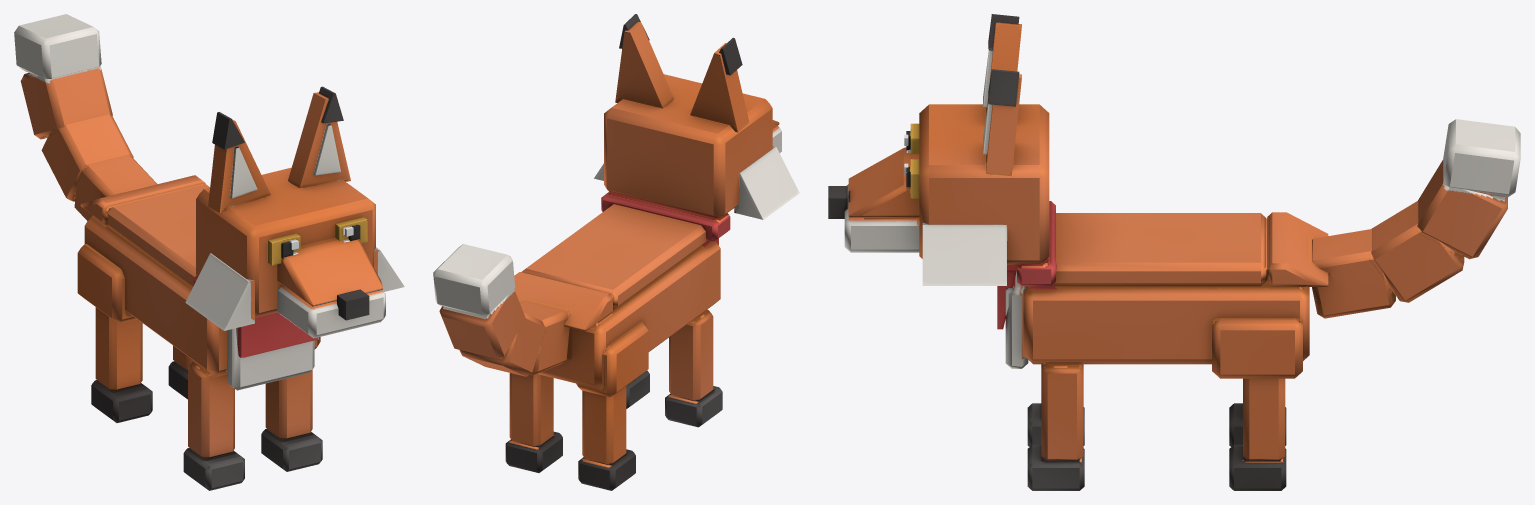
The model's file is RenardFurtif_Rig.fbx.
3 renders of one model, left to right at view 1: azimuth 30°, elevation 25°; view 2: azimuth 150°, elevation 25°; view 3: azimuth 270°, elevation 25°, orthographic. The views are drawn at different scales.
Visible parts, largest first — view 1: Head, Body, Tail, LegBR, LegFR, LegFL, LegBL; view 2: Head, Body, Tail, LegBR, LegFR, LegBL, LegFL; view 3: Body, Head, Tail, LegBL, LegFL.
Boxes of the visible parts, x1,y1,x2,y2 form: Head: [185, 86, 404, 338]; Body: [80, 175, 320, 390]; Tail: [14, 14, 157, 220]; LegBR: [77, 244, 152, 422]; LegFR: [183, 361, 244, 490]; LegFL: [261, 370, 322, 471]; LegBL: [168, 345, 193, 399]; Head: [594, 14, 799, 219]; Body: [514, 192, 730, 387]; Tail: [433, 244, 569, 376]; LegBR: [576, 322, 648, 490]; LegFR: [665, 309, 722, 427]; LegBL: [505, 373, 562, 472]; LegFL: [626, 370, 649, 408]; Body: [997, 201, 1328, 368]; Head: [828, 14, 1049, 285]; Tail: [1312, 119, 1520, 318]; LegBL: [1212, 318, 1302, 490]; LegFL: [1027, 364, 1084, 490].
Bounding box in the file's own units: 2.95 × 6 × 8.97.
Materials: 1 (1 with a texture image).
